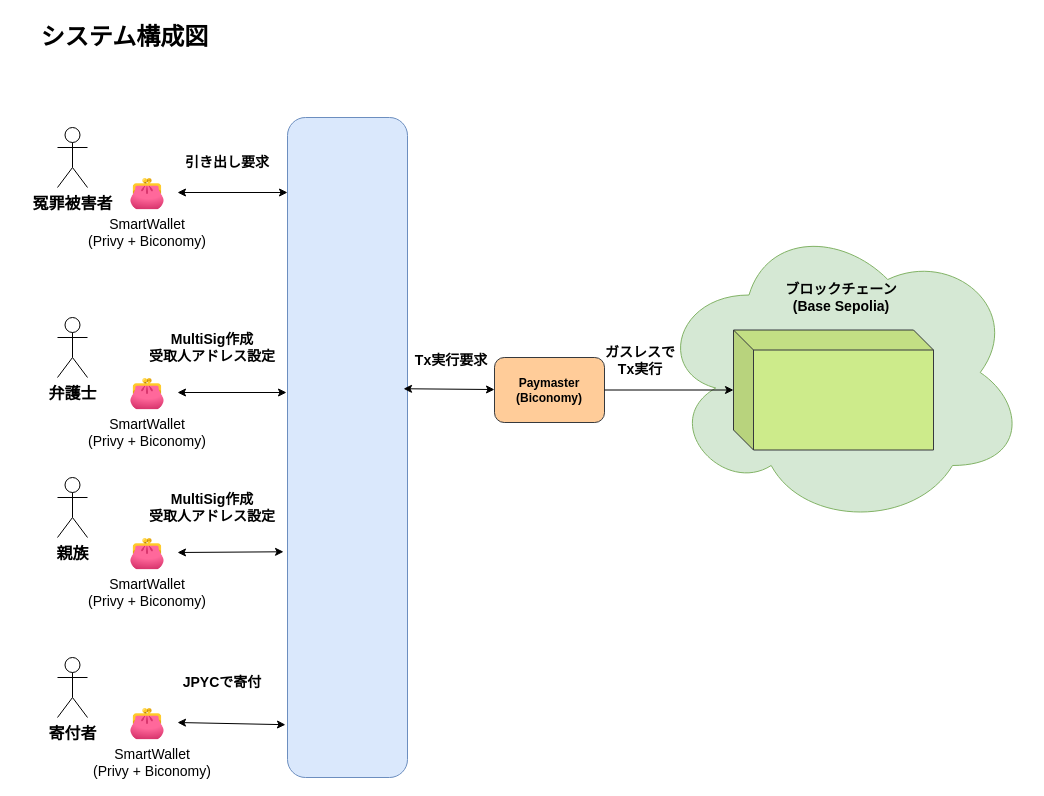
The diagram is 1044 pixels wide and 796 high, and some of its shapes have lost their labels. The shapes that lost their labels are listed below. From the top down, each one's centre as x and y in pixels, then its label:
the point at 833,389: スマートコントラクト (MultiSig + Semaphore)
the point at 347,447: フロントエンド
